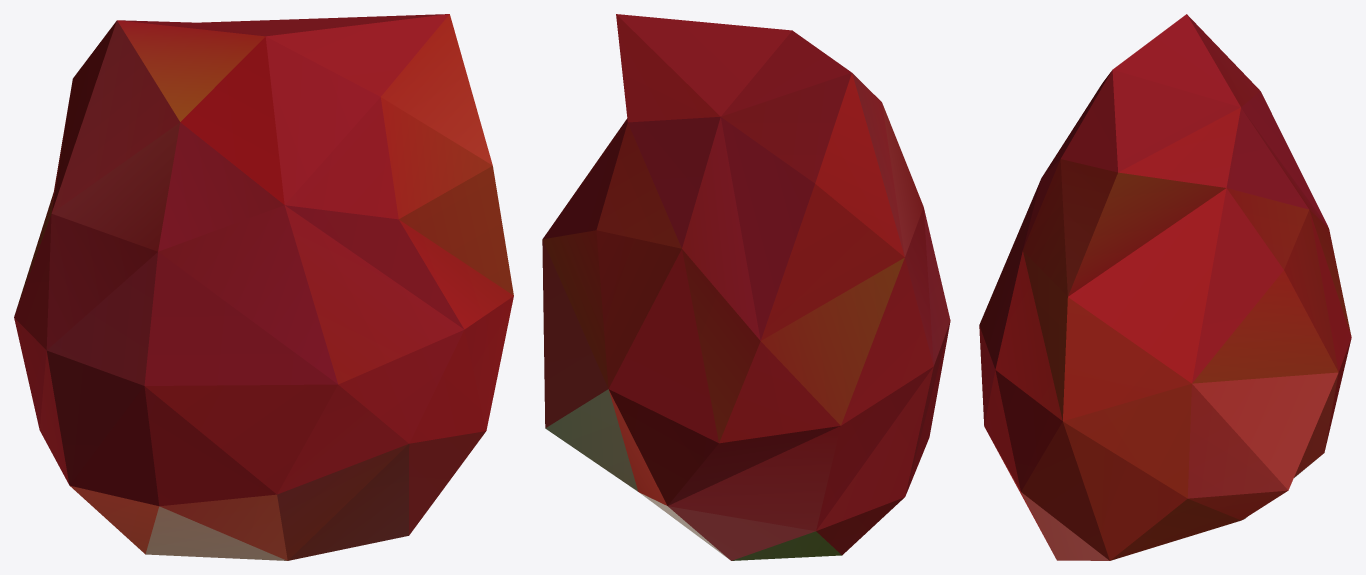
3 views of the same model, side by side, from view 1: azimuth 30°, elevation 25°; view 2: azimuth 150°, elevation 25°; view 3: azimuth 270°, elevation 25° (orthographic). The views are drawn at different scales.
Visible parts, largest first — view 1: strawberry_04_visual; view 2: strawberry_04_visual; view 3: strawberry_04_visual.
Boxes of the visible parts, x1,y1,x2,y2 form: strawberry_04_visual: (14, 14, 513, 560); strawberry_04_visual: (542, 14, 950, 560); strawberry_04_visual: (979, 14, 1351, 560).
Size of the model in its own units: 0.688 by 0.6145 by 0.8597.
